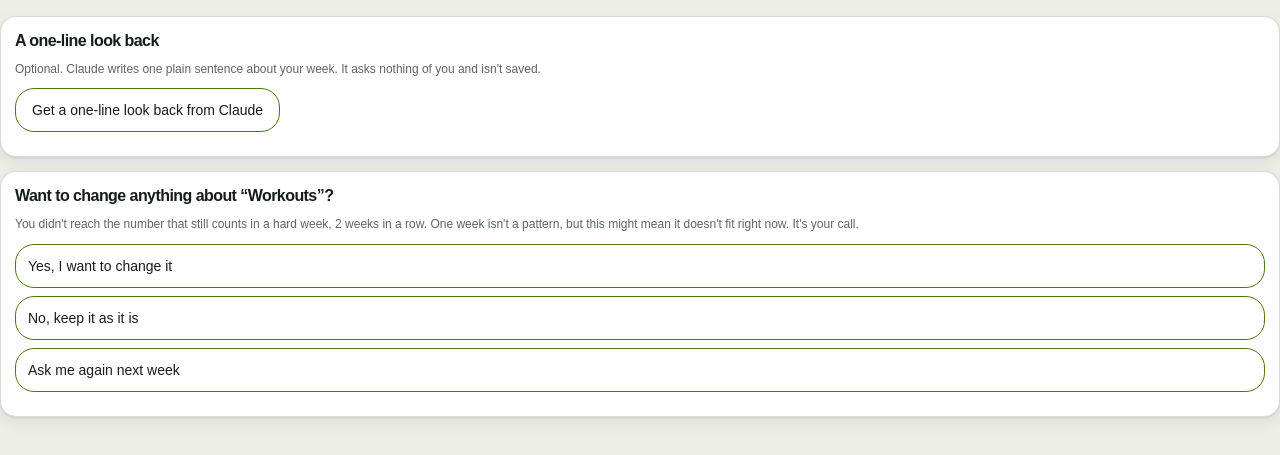
Test: layer 2: Claude's one-line look back › shows the service's reason when it asked for nothing
This screenshot has width=1280, height=455.
Click the button "Get a one-line look back from Claude". click: (148, 110)
box: [15, 88, 280, 132]
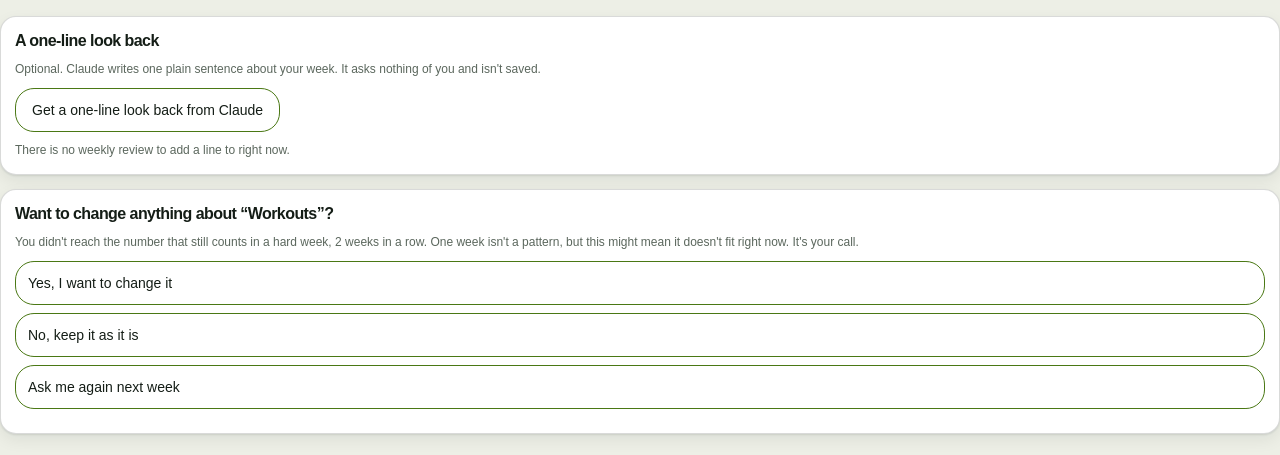
Expected: the text "There is no weekly review to add a line to right now." is shown, [15, 143, 290, 157]
